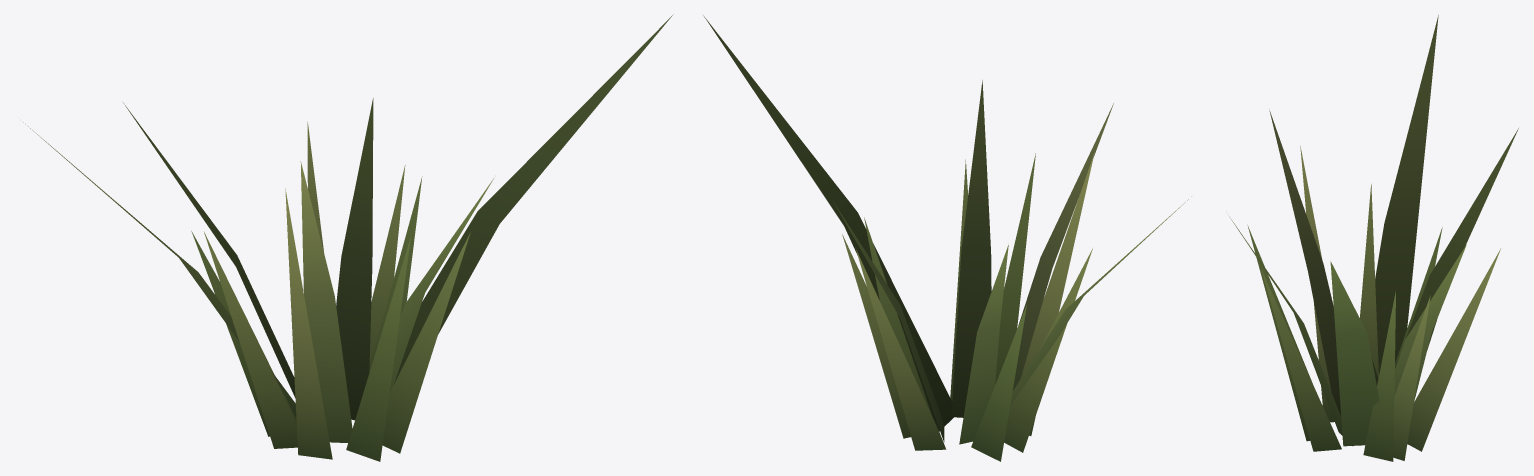
The model's file is grass_tuft.glb.
3 renders of one model, left to right at view 1: azimuth 30°, elevation 25°; view 2: azimuth 150°, elevation 25°; view 3: azimuth 270°, elevation 25°, orthographic. The views are drawn at different scales.
Parts seen in each view (by area): view 1: GrassTuft; view 2: GrassTuft; view 3: GrassTuft.
Boxes of the visible parts, x1,y1,x2,y2 form: GrassTuft: (23,14,673,461); GrassTuft: (703,15,1191,461); GrassTuft: (1229,15,1518,461).
Size of the model in its own units: 1.17 by 0.6845 by 0.5899.
